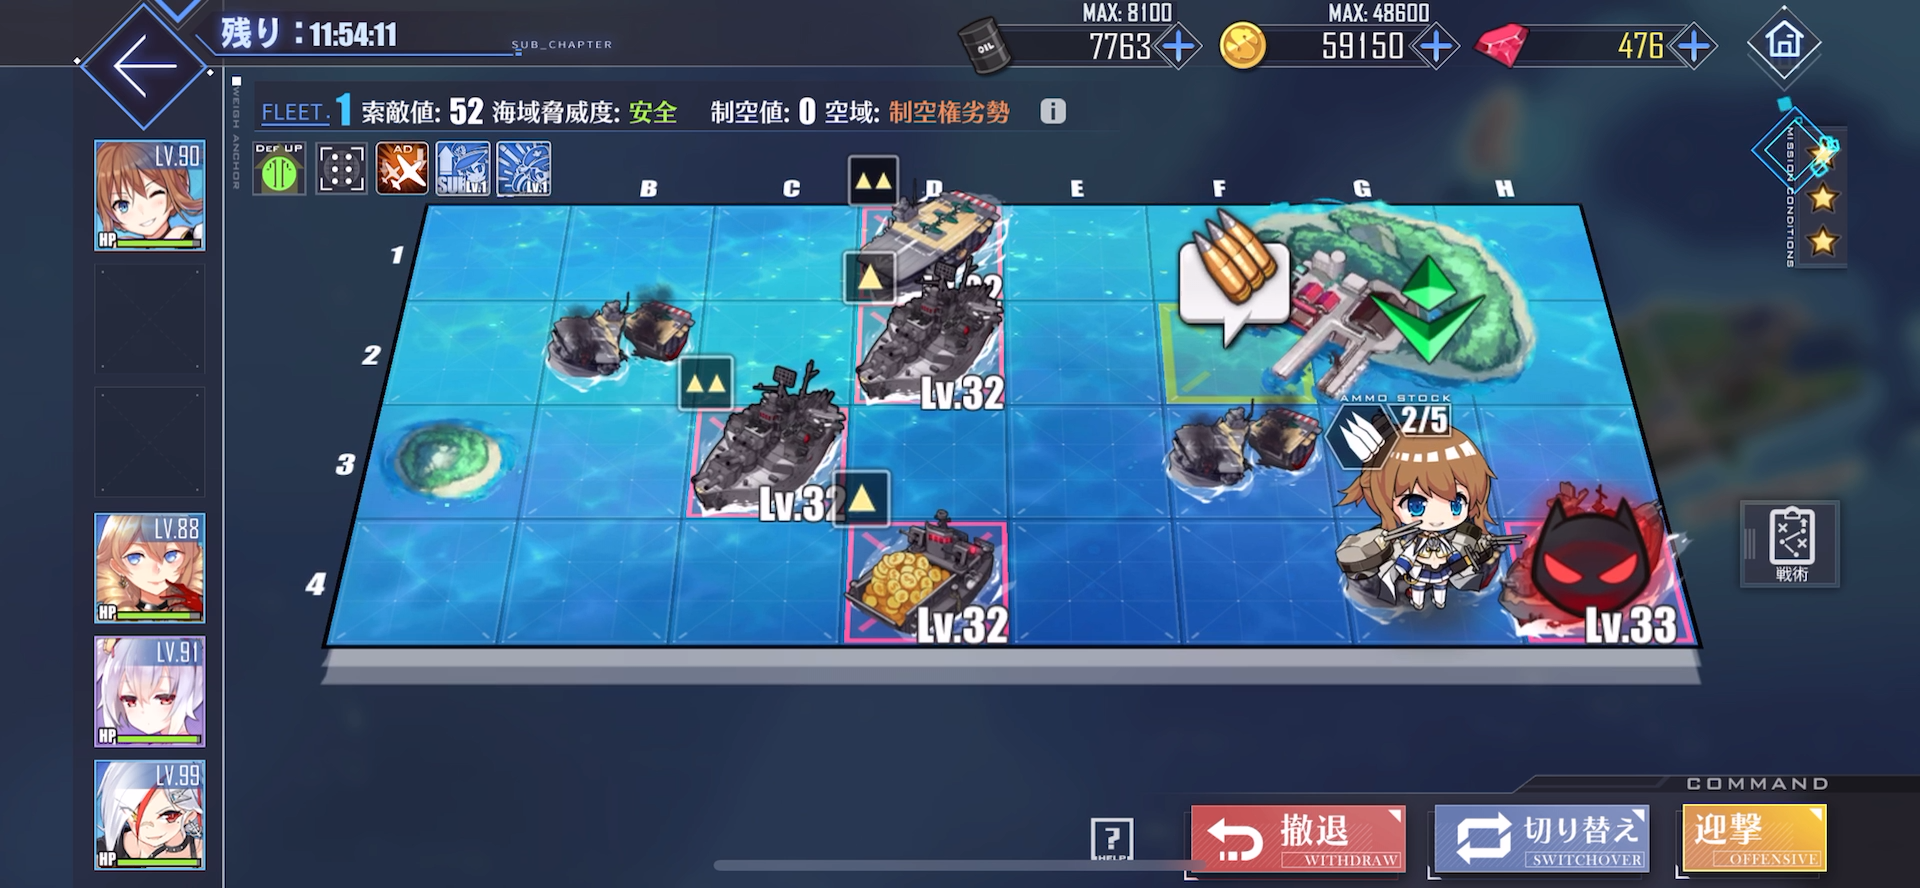boss: (1498, 487, 1685, 642)
